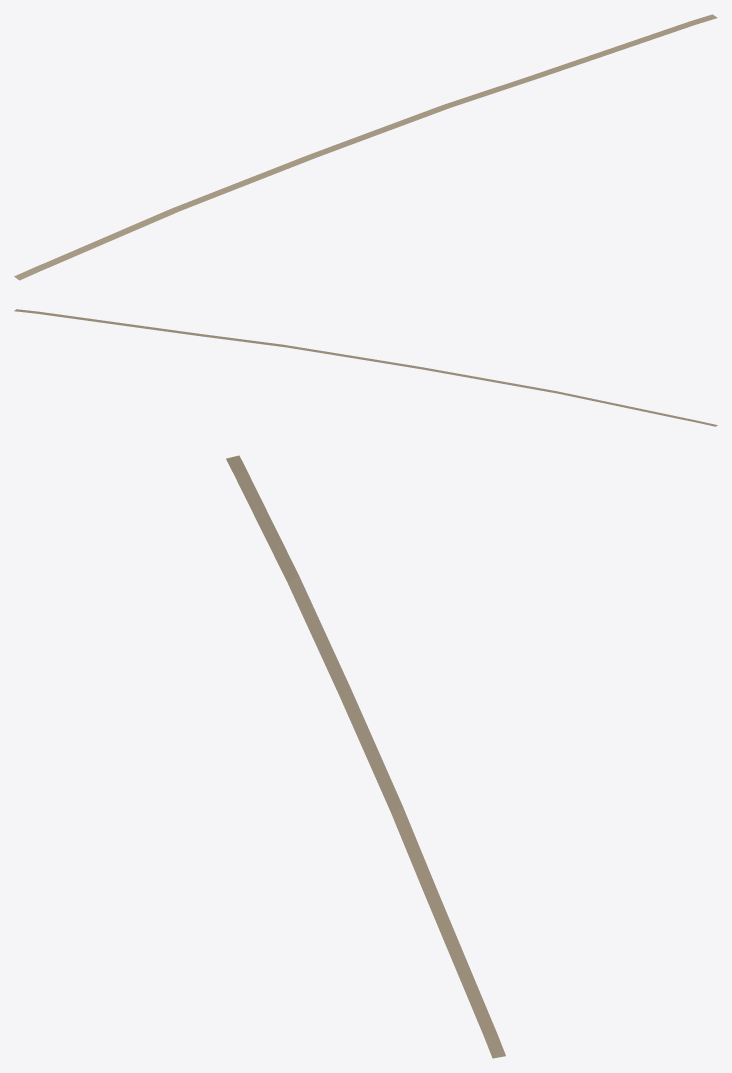
The model's file is farm_3_20_track.glb.
3 views of the same model, one above another, from view 1: azimuth 30°, elevation 25°; view 2: azimuth 150°, elevation 25°; view 3: azimuth 270°, elevation 25° (orthographic). The views are drawn at different scales.
Parts seen in each view (by area): view 1: geometry_0; view 2: geometry_0; view 3: geometry_0.
Part boxes in pixels (bbox=[...]): geometry_0: bbox=[14, 14, 717, 280]; geometry_0: bbox=[14, 309, 717, 426]; geometry_0: bbox=[226, 455, 505, 1058].
Size of the model in its own units: 348 by 8.15 by 66.52.
